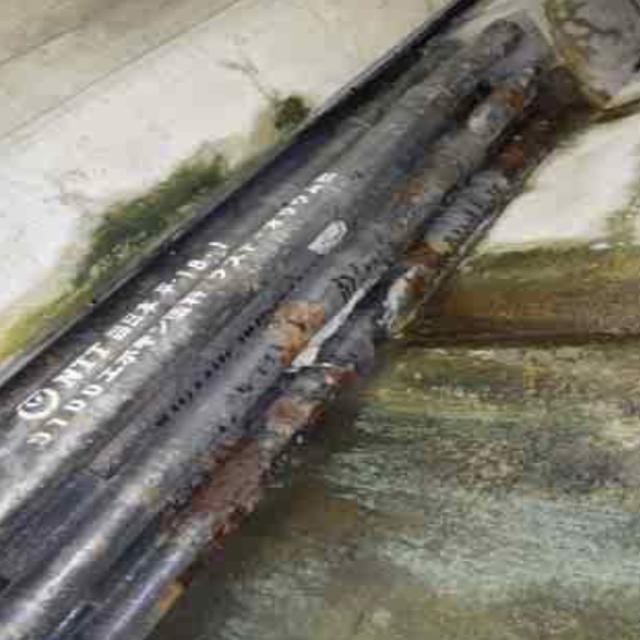corrosion: (186, 215, 374, 514), (433, 40, 571, 183)
